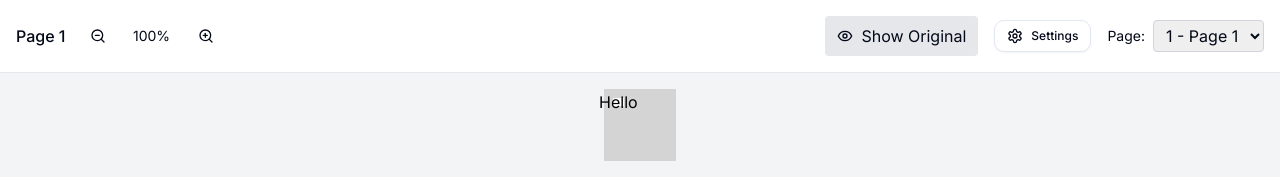
ImageViewer › toggles between original and translated view
// Toggle to original
Click the button "Show Original" at (902, 36), box top-left (825, 16), bottom-right (978, 56)
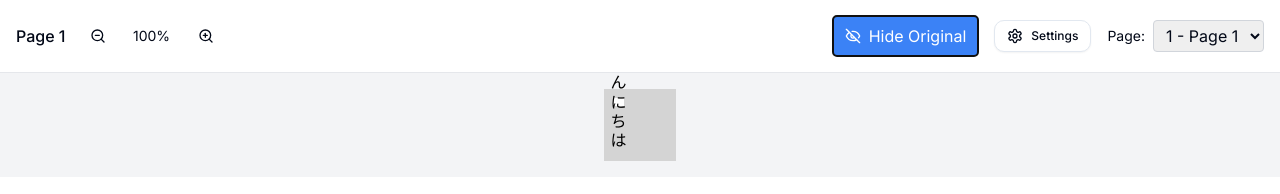
Result: the button named "show original" reads "Hide Original"
// Toggle back to translated
Click the button named "show original" at (905, 36), box top-left (833, 16), bottom-right (978, 56)
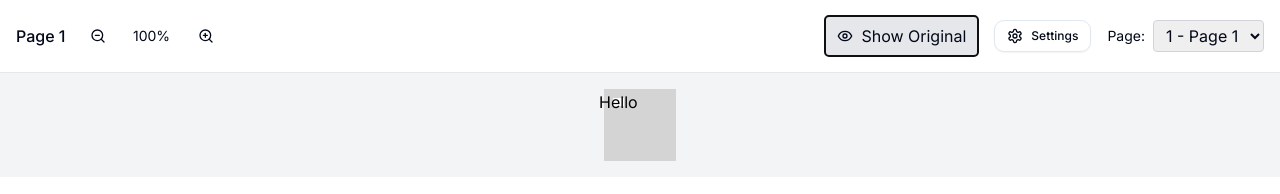
Result: the button "Show Original" is shown at top-left (825, 16), bottom-right (978, 56)
